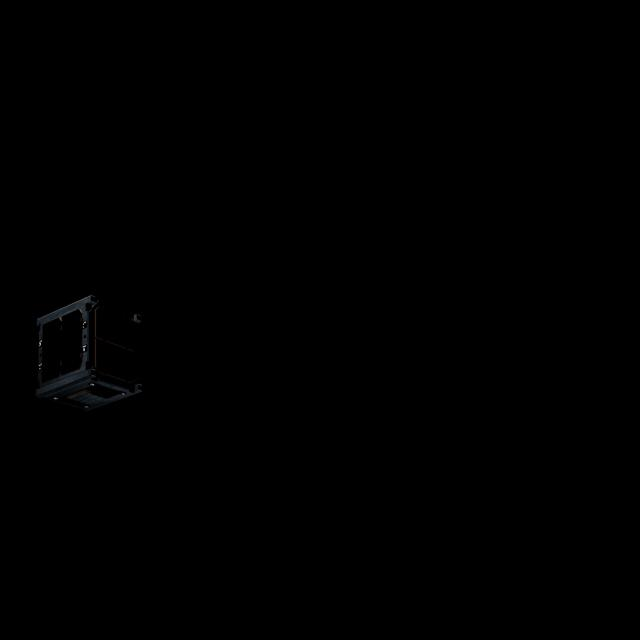medium_debris: (29, 288, 167, 428)
